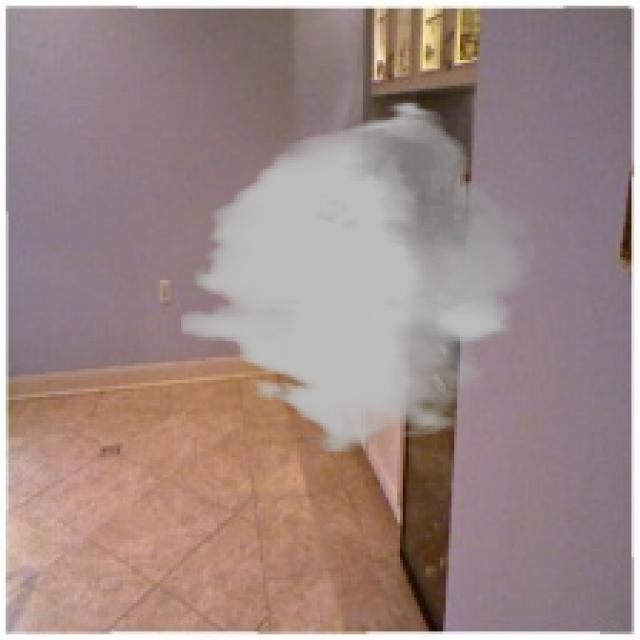Smoke: (180, 100, 534, 454)
